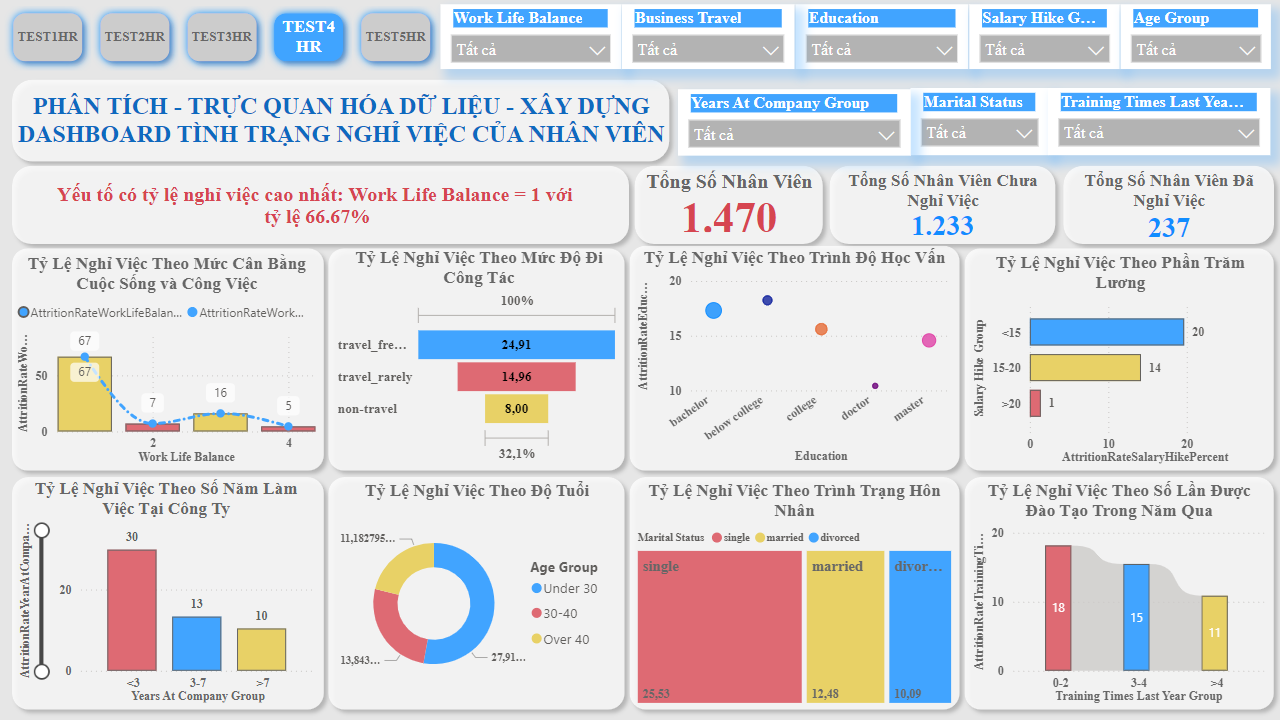

Layout of this report page (visuals, bound fields, positions):
{"tool":"powerbi","page":{"name":"TEST4HR","canvas":[1280,720],"ordinal":3},"visuals":[{"type":"shape","box":[0,470,329.8,250.6],"z":0},{"type":"clusteredColumnChart","title":"Tỷ Lệ Nghỉ Việc Theo Số Năm Làm Việc Tại Công Ty","fields":{"Category":["Employee-turnover (3).Years At Company Group"],"Y":["Employee-turnover (3).AttritionRateYearAtCompanyPercent"]},"box":[10.4,481.7,306.4,228.5],"z":1000},{"type":"shape","box":[0,72.7,675.2,100],"z":2000},{"type":"textbox","box":[1.3,89.6,673.9,70.1],"z":3000},{"type":"pageNavigator","box":[1.3,6.5,436.3,66.2],"z":4000},{"type":"slicer","fields":{"Values":["Employee-turnover (3).Education"]},"box":[792,6.5,172.7,64.9],"z":5000},{"type":"slicer","fields":{"Values":["Employee-turnover (3).Salary Hike Group"]},"box":[966,6.5,150.6,64.9],"z":6000},{"type":"slicer","fields":{"Values":["Employee-turnover (3).Age Group"]},"box":[1118,6.5,150.6,64.9],"z":7000},{"type":"slicer","fields":{"Values":["Employee-turnover (3).Marital Status"]},"box":[907.6,89.6,137.6,67.5],"z":8000},{"type":"slicer","fields":{"Values":["Employee-turnover (3).Training Times Last Year Group"]},"box":[1045.2,89.6,222,67.5],"z":9000},{"type":"shape","box":[0,158.8,635,96.2],"z":10000},{"type":"card","fields":{"Values":["Employee-turnover (3).HighestAttritionFactorTEST4HR"]},"box":[10.4,172.7,609,70.1],"z":11000},{"type":"shape","box":[622.5,158.8,206.2,96.2],"z":12000},{"type":"card","title":"Tổng Số Nhân Viên","fields":{"Values":["All Measures.Total Emp"]},"box":[635,172.5,182.5,66.2],"z":13000},{"type":"shape","box":[817.5,158.8,243.8,96.2],"z":14000},{"type":"shape","box":[1051.2,158.8,228.8,96.2],"z":15000},{"type":"card","title":"Tổng Số Nhân Viên Chưa Nghỉ Việc","fields":{"Values":["All Measures.ChuaNghiViec"]},"box":[838.8,172.5,202.5,70],"z":16000},{"type":"card","title":"Tổng Số Nhân Viên Đã Nghỉ Việc","fields":{"Values":["All Measures.DaNghiViec"]},"box":[1061.2,172.5,210,75],"z":17000},{"type":"shape","box":[0,241.5,329.8,240.2],"z":18000},{"type":"lineClusteredColumnComboChart","title":"Tỷ Lệ Nghỉ Việc Theo Mức Cân Bằng Cuộc Sống và Công Việc","fields":{"Category":["Employee-turnover (3).Work Life Balance"],"Y":["Employee-turnover (3).AttritionRateWorkLifeBalancePercent"],"Y2":["Employee-turnover (3).AttritionRateWorkLifeBalancePercent"]},"box":[10.4,255.8,307.7,214.2],"z":19000},{"type":"shape","box":[316.8,241.5,314.2,240.2],"z":20000},{"type":"shape","box":[316.8,470,314.2,250.6],"z":21000},{"type":"funnel","title":"Tỷ Lệ Nghỉ Việc Theo Mức Độ Đi Công Tác","fields":{"Category":["Employee-turnover (3).Business Travel"],"Y":["Employee-turnover (3).AttritionRateBusinessTravelPercent"]},"box":[329.8,250.6,292.1,219.4],"z":22000},{"type":"donutChart","title":"Tỷ Lệ Nghỉ Việc Theo Độ Tuổi","fields":{"Category":["Employee-turnover (3).Age Group"],"Y":["Employee-turnover (3).AttritionRateAgeGroupPercent"]},"box":[329.8,483,288.3,227.2],"z":23000},{"type":"shape","box":[618.1,238.9,348,242.8],"z":24000},{"type":"shape","box":[618.1,470,348,250.6],"z":25000},{"type":"shape","box":[953.1,241.5,327.2,240.2],"z":26000},{"type":"shape","box":[953.1,470,327.2,250.6],"z":27000},{"type":"scatterChart","title":"Tỷ Lệ Nghỉ Việc Theo Trình Độ Học Vấn","fields":{"X":["Employee-turnover (3).Education"],"Y":["Employee-turnover (3).AttritionRateEducationPercent"],"Size":["CountNonNull(Employee-turnover (3).Education)"]},"box":[629.7,250.6,323.3,219.4],"z":28000},{"type":"treemap","title":"Tỷ Lệ Nghỉ Việc Theo Trình Trạng Hôn Nhân","fields":{"Group":["Employee-turnover (3).Marital Status"],"Values":["Employee-turnover (3).AttritionRateMaritalStatusPercent"]},"box":[629.7,483,323.3,227.2],"z":29000},{"type":"clusteredBarChart","title":"Tỷ Lệ Nghỉ Việc Theo Phần Trăm Lương","fields":{"Category":["Employee-turnover (3).Salary Hike Group"],"Y":["Employee-turnover (3).AttritionRateSalaryHikePercent"]},"box":[966,254.5,302.5,215.5],"z":30000},{"type":"ribbonChart","title":"Tỷ Lệ Nghỉ Việc Theo Số Lần Được Đào Tạo Trong Năm Qua","fields":{"Category":["Employee-turnover (3).Training Times Last Year Group"],"Y":["Employee-turnover (3).AttritionRateTrainingTimesLastYearPercent"]},"box":[966,483,299.9,227.2],"z":31000},{"type":"slicer","fields":{"Values":["Employee-turnover (3).Work Life Balance"]},"box":[437.6,6.5,180.5,64.9],"z":32000},{"type":"slicer","fields":{"Values":["Employee-turnover (3).Business Travel"]},"box":[619.4,6.5,172.7,64.9],"z":33000},{"type":"slicer","fields":{"Values":["Employee-turnover (3).Years At Company Group"]},"box":[675.2,90.9,232.4,66.2],"z":34000}]}

Visuals, with their boxes in screenshot pixels (x1, y1, x2, y2), scaled from the page's 1280x720 canvas onto the 1280x720 screenshot:
shape: bbox=[0, 470, 330, 719]
"Tỷ Lệ Nghỉ Việc Theo Số Năm Làm Việc Tại Công Ty" clusteredColumnChart: bbox=[10, 482, 317, 710]
shape: bbox=[0, 73, 675, 173]
textbox: bbox=[1, 90, 675, 160]
pageNavigator: bbox=[1, 6, 438, 73]
slicer - Employee-turnover (3).Education: bbox=[792, 6, 965, 71]
slicer - Employee-turnover (3).Salary Hike Group: bbox=[966, 6, 1117, 71]
slicer - Employee-turnover (3).Age Group: bbox=[1118, 6, 1269, 71]
slicer - Employee-turnover (3).Marital Status: bbox=[908, 90, 1045, 157]
slicer - Employee-turnover (3).Training Times Last Year Group: bbox=[1045, 90, 1267, 157]
shape: bbox=[0, 159, 635, 255]
card - Employee-turnover (3).HighestAttritionFactorTEST4HR: bbox=[10, 173, 619, 243]
shape: bbox=[622, 159, 829, 255]
"Tổng Số Nhân Viên" card: bbox=[635, 172, 818, 239]
shape: bbox=[818, 159, 1061, 255]
shape: bbox=[1051, 159, 1279, 255]
"Tổng Số Nhân Viên Chưa Nghỉ Việc" card: bbox=[839, 172, 1041, 242]
"Tổng Số Nhân Viên Đã Nghỉ Việc" card: bbox=[1061, 172, 1271, 248]
shape: bbox=[0, 242, 330, 482]
"Tỷ Lệ Nghỉ Việc Theo Mức Cân Bằng Cuộc Sống và Công Việc" lineClusteredColumnComboChart: bbox=[10, 256, 318, 470]
shape: bbox=[317, 242, 631, 482]
shape: bbox=[317, 470, 631, 719]
"Tỷ Lệ Nghỉ Việc Theo Mức Độ Đi Công Tác" funnel: bbox=[330, 251, 622, 470]
"Tỷ Lệ Nghỉ Việc Theo Độ Tuổi" donutChart: bbox=[330, 483, 618, 710]
shape: bbox=[618, 239, 966, 482]
shape: bbox=[618, 470, 966, 719]
shape: bbox=[953, 242, 1279, 482]
shape: bbox=[953, 470, 1279, 719]
"Tỷ Lệ Nghỉ Việc Theo Trình Độ Học Vấn" scatterChart: bbox=[630, 251, 953, 470]
"Tỷ Lệ Nghỉ Việc Theo Trình Trạng Hôn Nhân" treemap: bbox=[630, 483, 953, 710]
"Tỷ Lệ Nghỉ Việc Theo Phần Trăm Lương" clusteredBarChart: bbox=[966, 254, 1268, 470]
"Tỷ Lệ Nghỉ Việc Theo Số Lần Được Đào Tạo Trong Năm Qua" ribbonChart: bbox=[966, 483, 1266, 710]
slicer - Employee-turnover (3).Work Life Balance: bbox=[438, 6, 618, 71]
slicer - Employee-turnover (3).Business Travel: bbox=[619, 6, 792, 71]
slicer - Employee-turnover (3).Years At Company Group: bbox=[675, 91, 908, 157]
